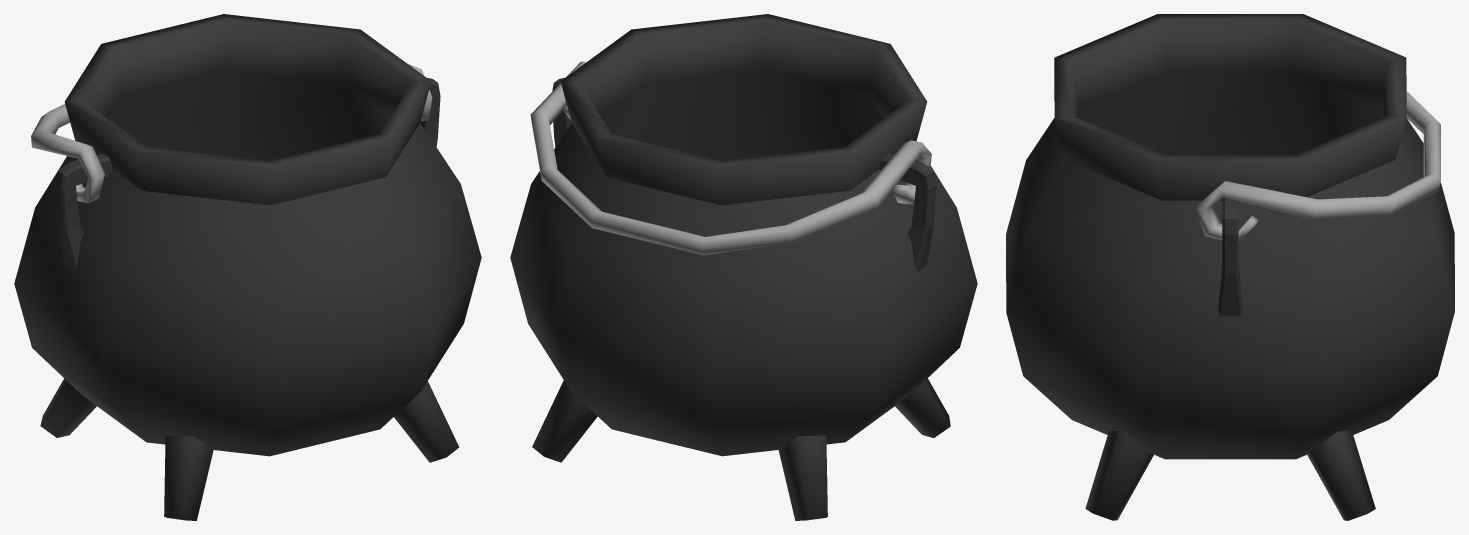
File: pot_03.glb
3 renders of one model, left to right at view 1: azimuth 30°, elevation 25°; view 2: azimuth 150°, elevation 25°; view 3: azimuth 270°, elevation 25°, orthographic. The views are drawn at different scales.
Visible parts, largest first — view 1: pot.03; view 2: pot.03; view 3: pot.03.
Part boxes in pixels (left/top/right/bottom): pot.03: left=14, top=14, right=481, bottom=520; pot.03: left=510, top=14, right=977, bottom=520; pot.03: left=1006, top=14, right=1454, bottom=520.
Size of the model in its own units: 0.5074 by 0.456 by 0.5041.
Materials: 1 (1 with a texture image).
